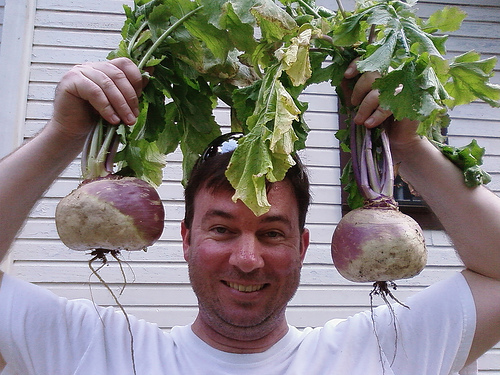turnip: (55, 173, 165, 374), (329, 198, 429, 372)
